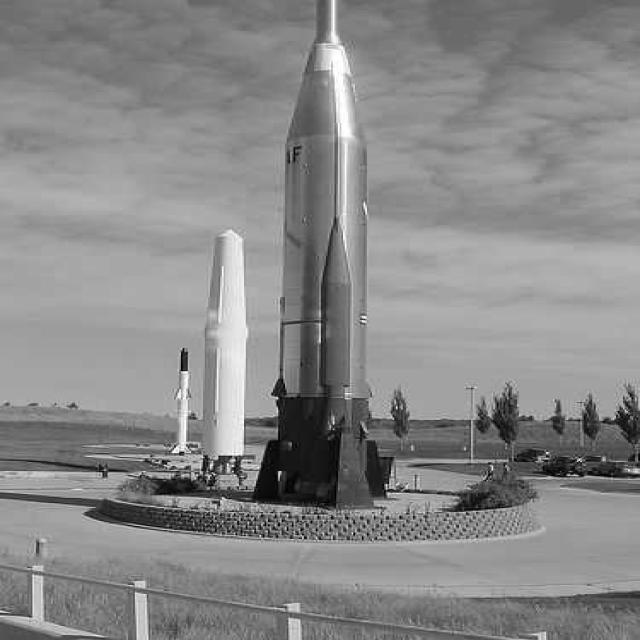missile: (284, 11, 388, 490), (203, 231, 255, 461), (171, 347, 196, 456)
